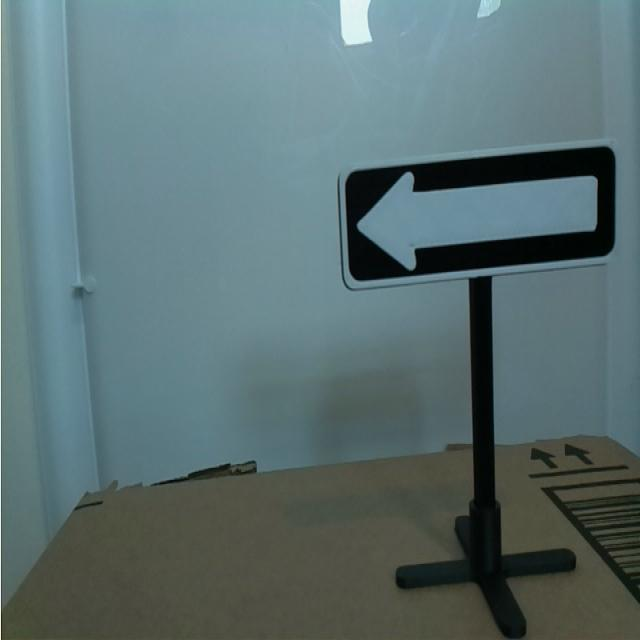sign_oneway_left: (334, 136, 622, 302)
